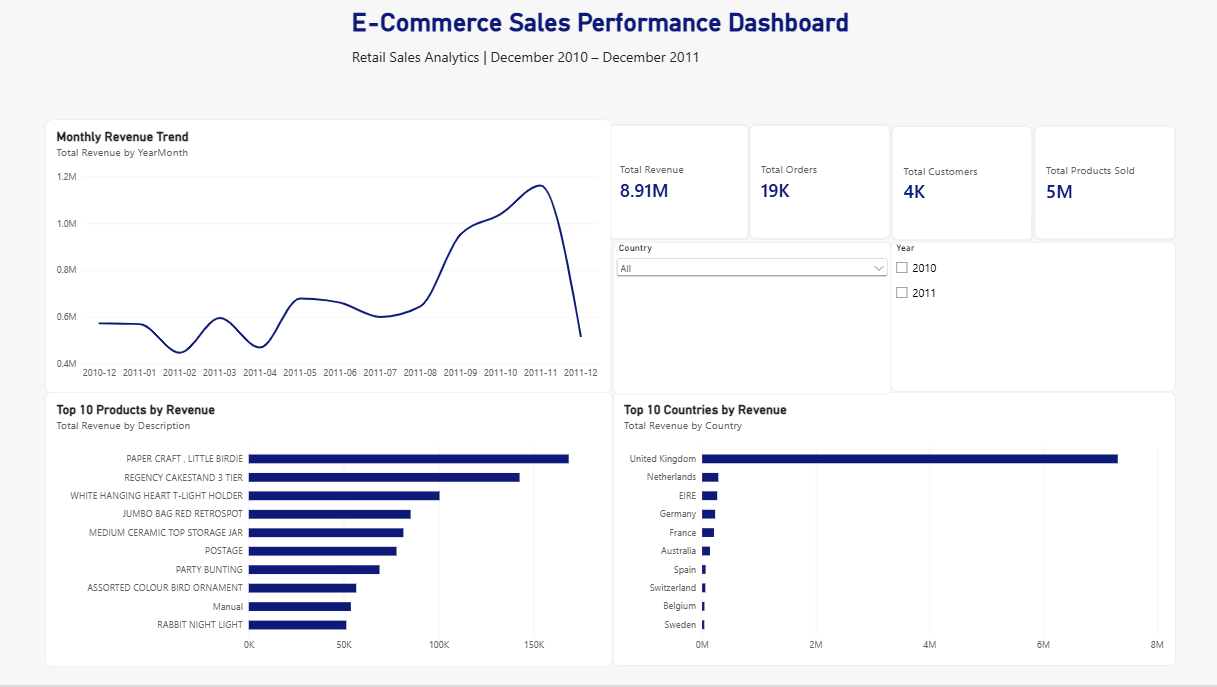

Layout of this report page (visuals, bound fields, positions):
{"tool":"powerbi","page":{"name":"Page 1","canvas":[1920,1080],"ordinal":0},"visuals":[{"type":"cardVisual","fields":{"Data":["Online Retail.Total Revenue"]},"box":[953.2,225.2,215,175],"z":0},{"type":"cardVisual","fields":{"Data":["Online Retail.Total Orders"]},"box":[1168.2,225.2,215,175],"z":1000},{"type":"cardVisual","fields":{"Data":["Online Retail.Total Customers"]},"box":[1385.2,227.2,215,175],"z":2000},{"type":"cardVisual","fields":{"Data":["Online Retail.Total Products Sold"]},"box":[1602,226,216,174],"z":3000},{"type":"lineChart","title":"Monthly Revenue Trend","fields":{"Category":["Online Retail.YearMonth"],"Y":["Online Retail.Total Revenue"]},"box":[96,218,862.5,417.5],"z":4000},{"type":"clusteredBarChart","title":"Top 10 Products by Revenue","fields":{"Category":["Online Retail.Description"],"Y":["Online Retail.Total Revenue"]},"box":[96,632,864,418],"z":5000},{"type":"clusteredBarChart","title":"Top 10 Countries by Revenue","fields":{"Category":["Online Retail.Country"],"Y":["Online Retail.Total Revenue"]},"box":[960,632,857.5,417.5],"z":6000},{"type":"slicer","fields":{"Values":["Online Retail.Year"]},"box":[1384,404,434,228],"z":7000},{"type":"slicer","fields":{"Values":["Online Retail.Country"]},"box":[960,404,424,232],"z":8000},{"type":"textbox","title":"E-Commerce Sales Performance Dashboard","box":[562,46,794,142],"z":9000}]}

Visuals, with their boxes in screenshot pixels (x1, y1, x2, y2), scaled from the page's 1920x1080 canvas onto the 1217x687 screenshot:
cardVisual - Online Retail.Total Revenue: pyautogui.locateOnScreen(604, 143, 740, 255)
cardVisual - Online Retail.Total Orders: pyautogui.locateOnScreen(740, 143, 877, 255)
cardVisual - Online Retail.Total Customers: pyautogui.locateOnScreen(878, 145, 1014, 256)
cardVisual - Online Retail.Total Products Sold: pyautogui.locateOnScreen(1015, 144, 1152, 254)
"Monthly Revenue Trend" lineChart: pyautogui.locateOnScreen(61, 139, 608, 404)
"Top 10 Products by Revenue" clusteredBarChart: pyautogui.locateOnScreen(61, 402, 608, 668)
"Top 10 Countries by Revenue" clusteredBarChart: pyautogui.locateOnScreen(608, 402, 1152, 668)
slicer - Online Retail.Year: pyautogui.locateOnScreen(877, 257, 1152, 402)
slicer - Online Retail.Country: pyautogui.locateOnScreen(608, 257, 877, 405)
"E-Commerce Sales Performance Dashboard" textbox: pyautogui.locateOnScreen(356, 29, 860, 120)
